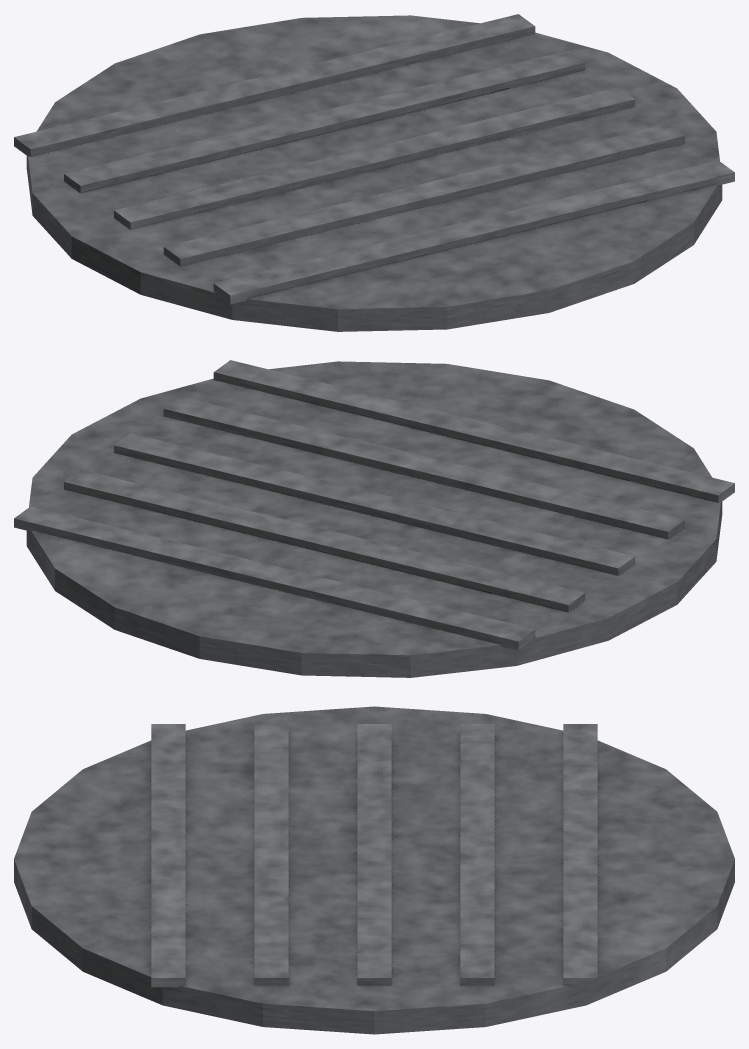
Rendered from city_manhole.glb.
The picture shows the model from 3 angles, top to bottom: view 1: azimuth 30°, elevation 25°; view 2: azimuth 150°, elevation 25°; view 3: azimuth 270°, elevation 25°; orthographic projection. The views are drawn at different scales.
Visible parts, largest first — view 1: city_manhole; view 2: city_manhole; view 3: city_manhole.
Part boxes in pixels (x1=…): city_manhole: x1=14, y1=14, x2=734, y2=331; city_manhole: x1=14, y1=360, x2=734, y2=677; city_manhole: x1=14, y1=706, x2=734, y2=1034.
Size of the model in its own units: 0.84 by 0.04 by 0.84.
1 material, 1 textured.
